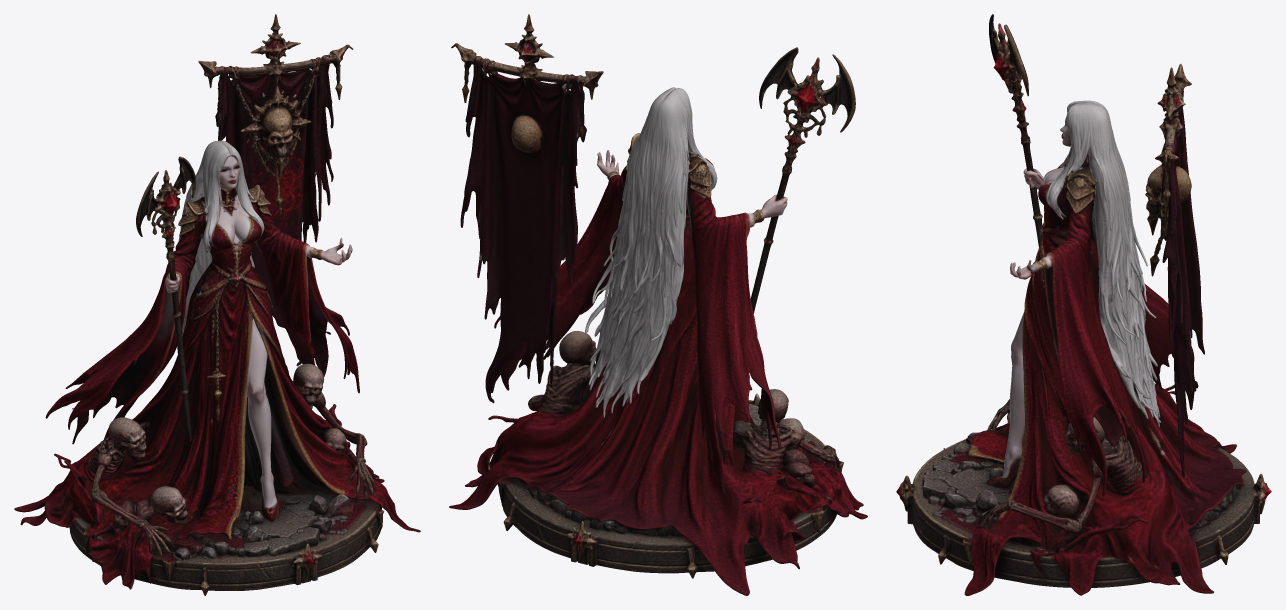
File: Кармилла.glb
3 renders of one model, left to right at view 1: azimuth 30°, elevation 25°; view 2: azimuth 150°, elevation 25°; view 3: azimuth 270°, elevation 25°, orthographic. The views are drawn at different scales.
Parts seen in each view (by area): view 1: tripo_node_87a17ed6-0437-4d6e-9fc2-e5bed3f53f51; view 2: tripo_node_87a17ed6-0437-4d6e-9fc2-e5bed3f53f51; view 3: tripo_node_87a17ed6-0437-4d6e-9fc2-e5bed3f53f51.
Part boxes in pixels (x1,y1,x2,y2): tripo_node_87a17ed6-0437-4d6e-9fc2-e5bed3f53f51: (14,14,420,595); tripo_node_87a17ed6-0437-4d6e-9fc2-e5bed3f53f51: (449,14,867,595); tripo_node_87a17ed6-0437-4d6e-9fc2-e5bed3f53f51: (896,14,1271,595).
Size of the model in its own units: 0.7433 by 1 by 0.6771.
1 material, 1 textured.
